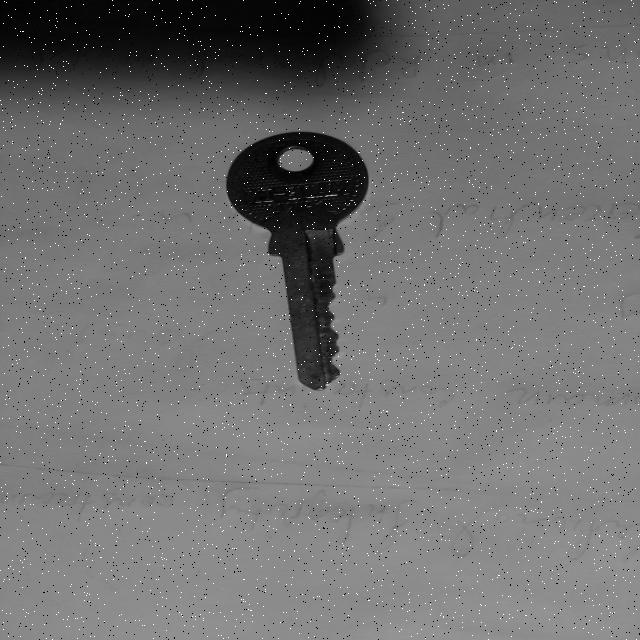key: (226, 132, 368, 390)
